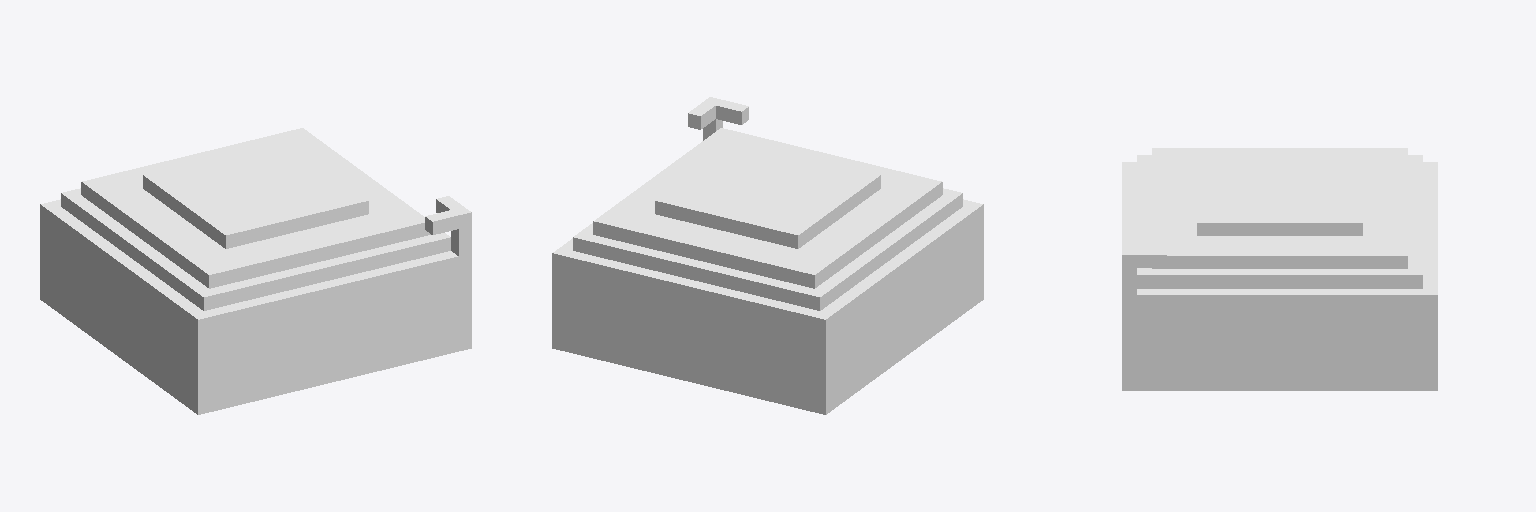
File: Connector A.obj
3 renders of one model, left to right at view 1: azimuth 30°, elevation 25°; view 2: azimuth 150°, elevation 25°; view 3: azimuth 270°, elevation 25°, orthographic.
Parts seen in each view (by area): view 1: Flat_World__61_-60_2_to_81_-51_22; view 2: Flat_World__61_-60_2_to_81_-51_22; view 3: Flat_World__61_-60_2_to_81_-51_22.
Boxes of the visible parts, box(x1,y1,x2,y2) form: Flat_World__61_-60_2_to_81_-51_22: box(40, 128, 471, 414); Flat_World__61_-60_2_to_81_-51_22: box(552, 97, 983, 414); Flat_World__61_-60_2_to_81_-51_22: box(1122, 148, 1437, 390).
Bounding box in the file's own units: 21 × 10 × 21.